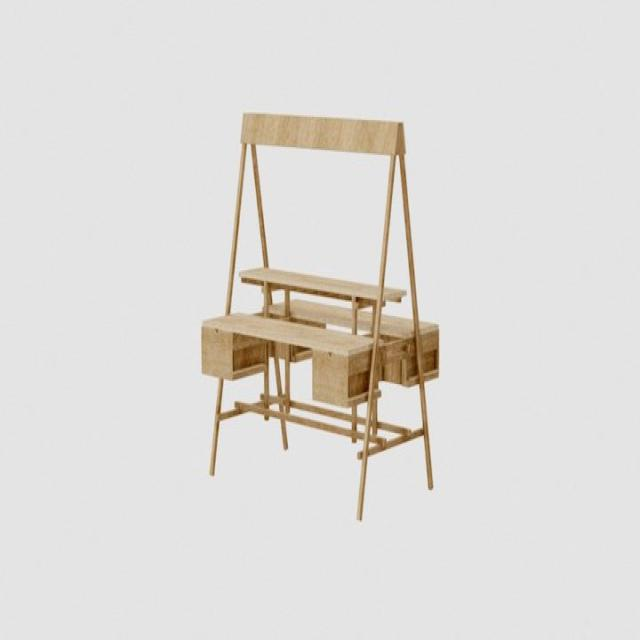table: (240, 262, 408, 448)
